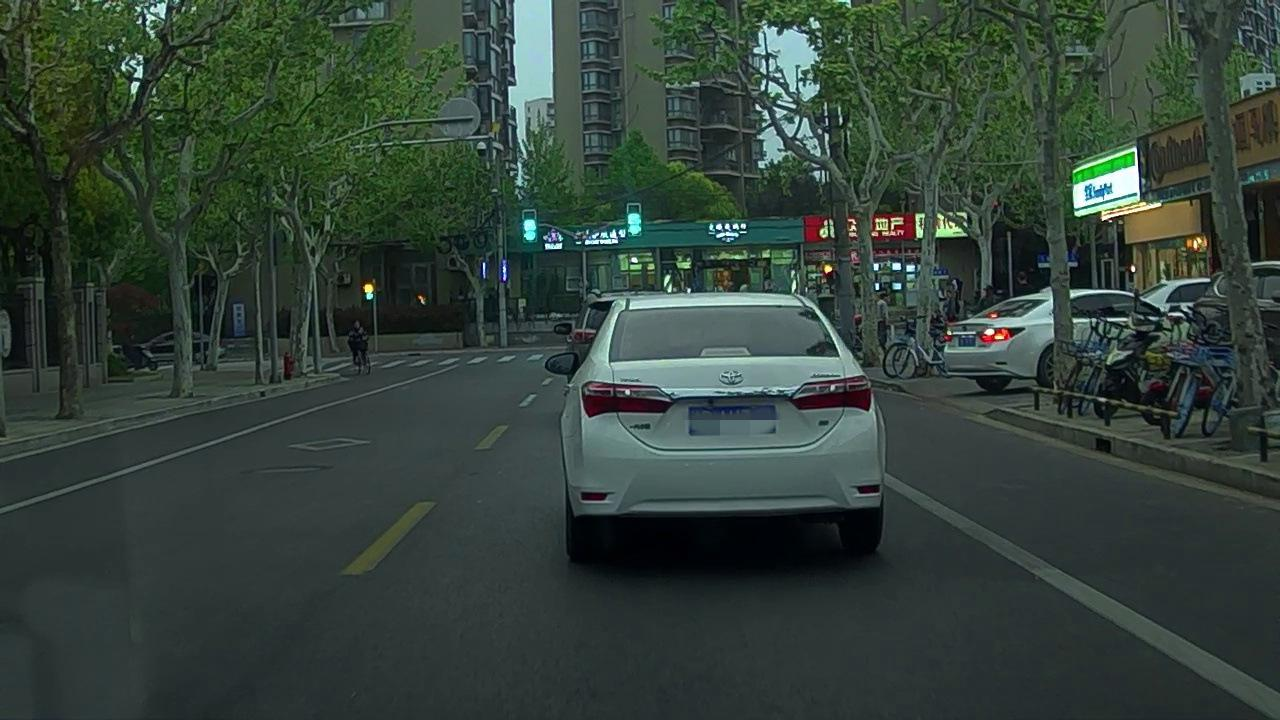traffic_light: (627, 203, 641, 238), (522, 209, 535, 246)
